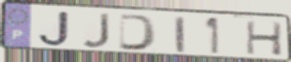1: (203, 16, 221, 57)
D: (117, 13, 159, 52)
H: (244, 19, 285, 57)
I: (173, 15, 187, 54)
J: (37, 10, 72, 48), (80, 12, 112, 49)
